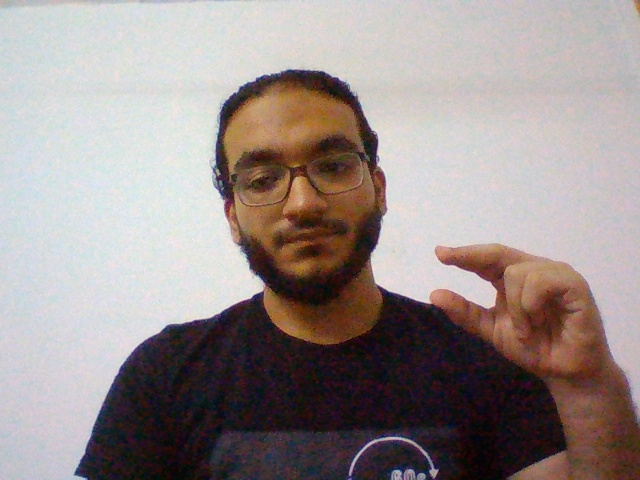No: (424, 233, 621, 393)
